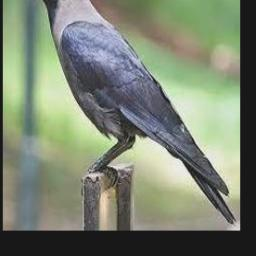Crow: (5, 0, 235, 225)
